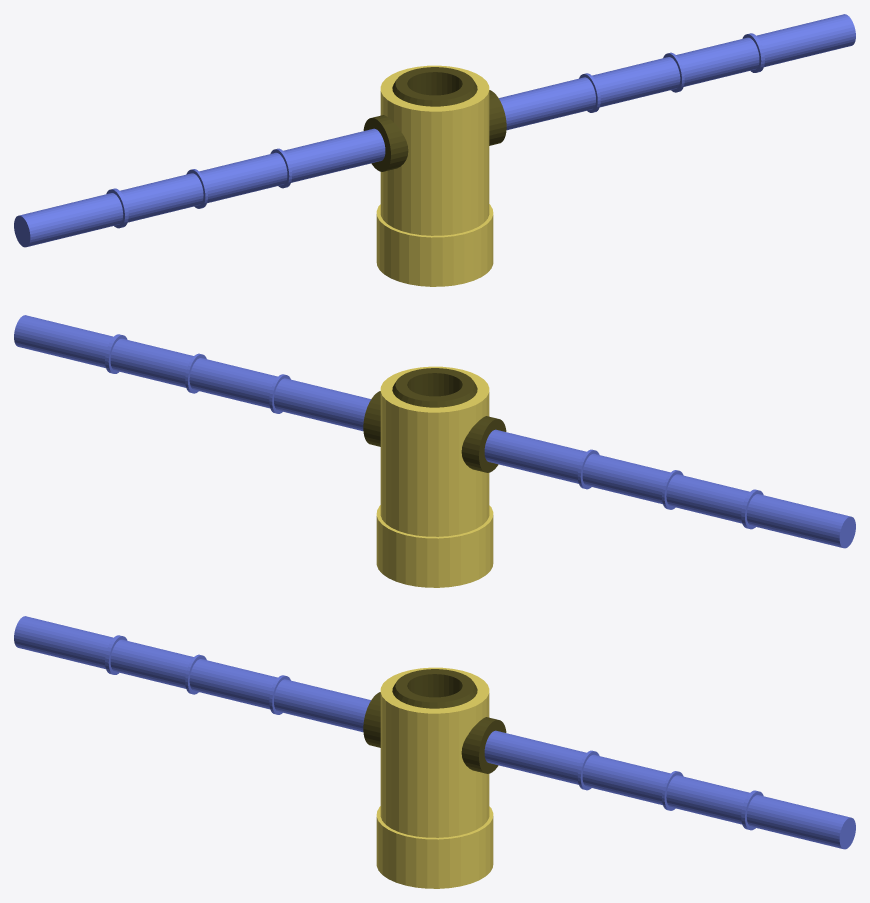
File: WaterMachine.fbx
3 views of the same model, one above another, from view 1: azimuth 30°, elevation 25°; view 2: azimuth 150°, elevation 25°; view 3: azimuth 330°, elevation 25° (orthographic).
Visible parts, largest first — view 1: Cylinder; view 2: Cylinder; view 3: Cylinder.
Boxes of the visible parts, x1,y1,x2,y2 form: Cylinder: (14, 14, 855, 286); Cylinder: (14, 315, 855, 587); Cylinder: (14, 616, 855, 888).
Size of the model in its own units: 16.3 by 3.37 by 2.
